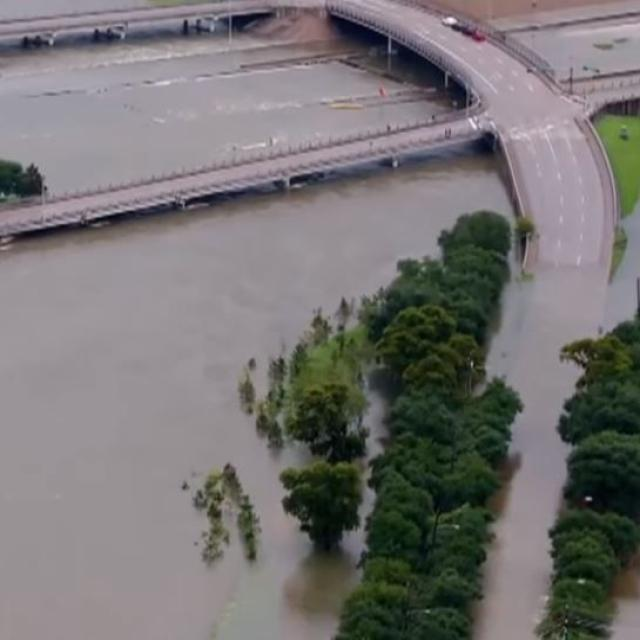flooded_areas: (7, 186, 639, 639)
